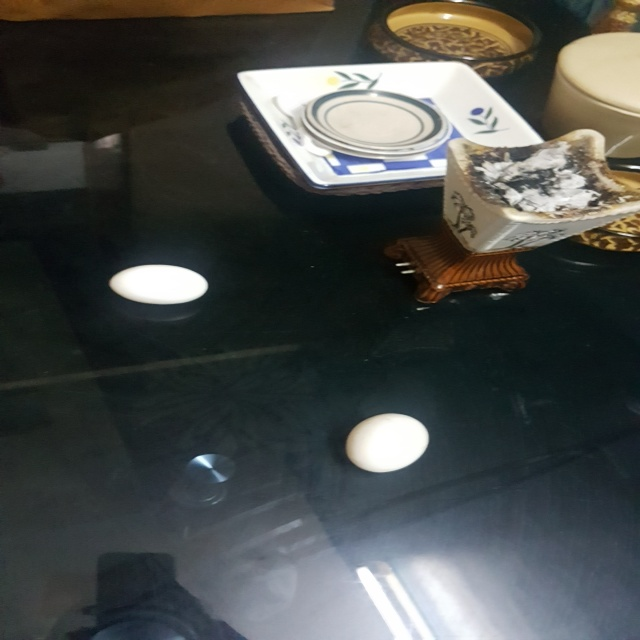eggs: (342, 413, 432, 473), (107, 264, 209, 305)
